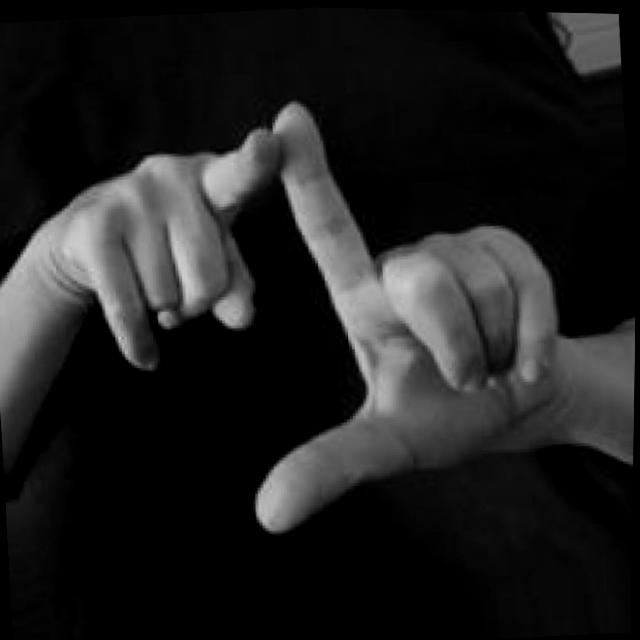J: (30, 71, 586, 564)
